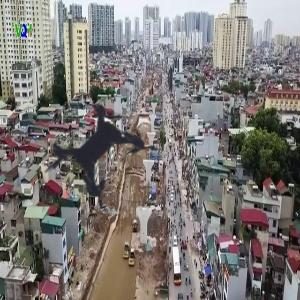drone: (8, 57, 201, 250)
